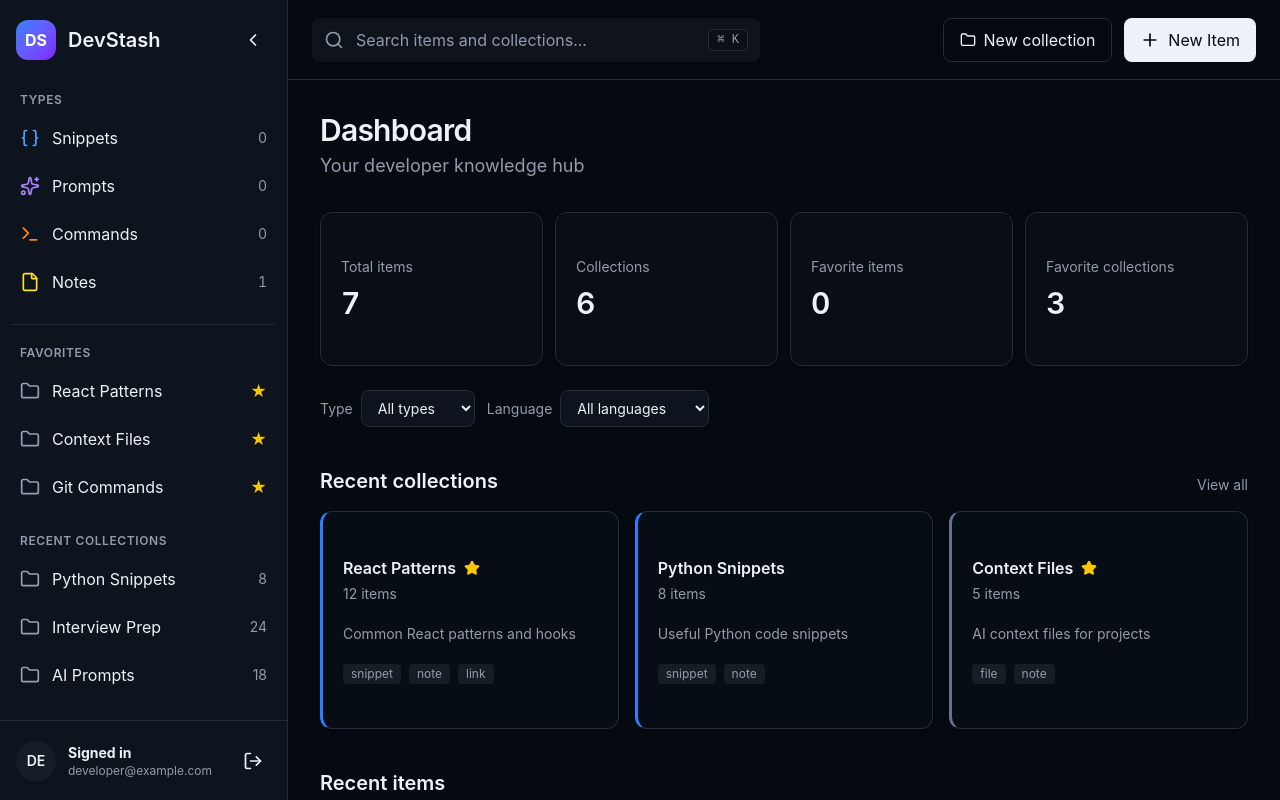
opens a prefetched item from global search even when it is not on the current page
Click the button with aria-label "Open global search" at (536, 40), box x1=312 y1=18 x2=760 y2=62
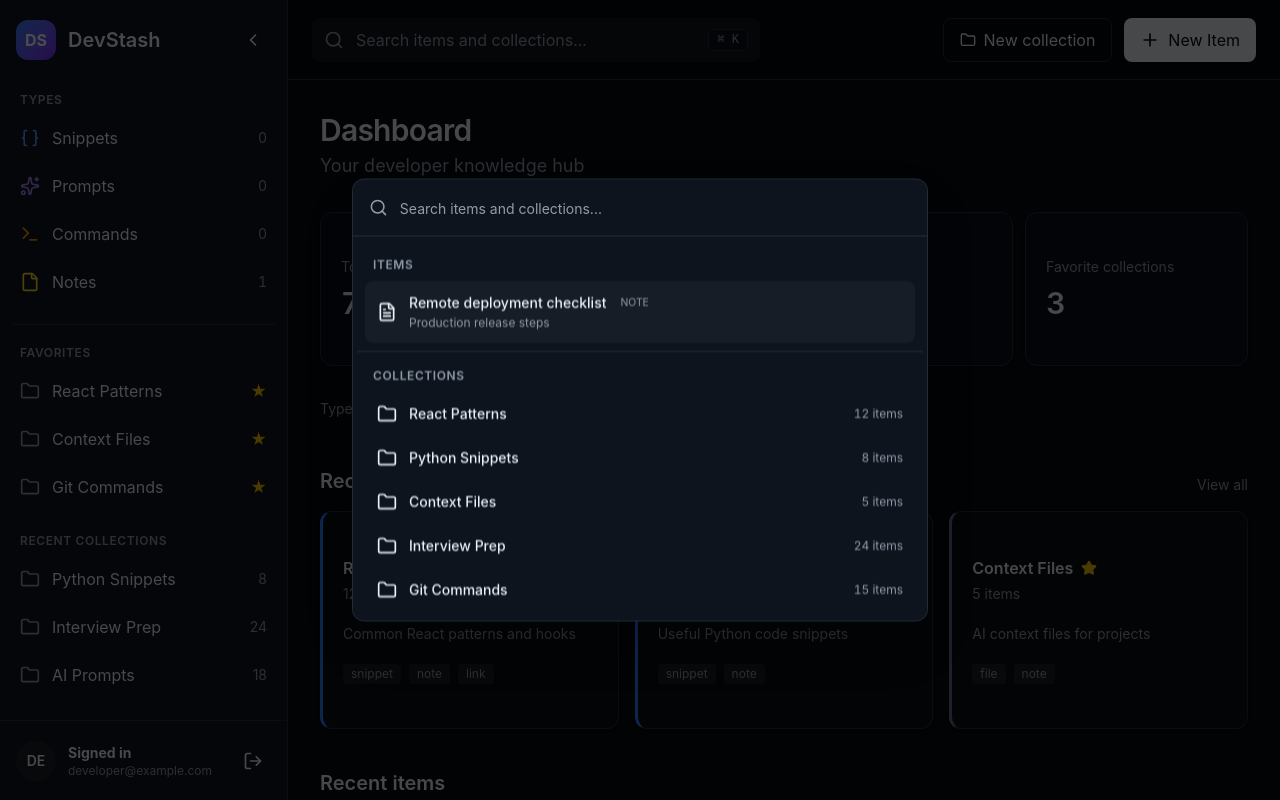
Type "Remote deployment" into the dropdown labelled "Search items and collections" at (655, 208), box x1=400 y1=180 x2=911 y2=236
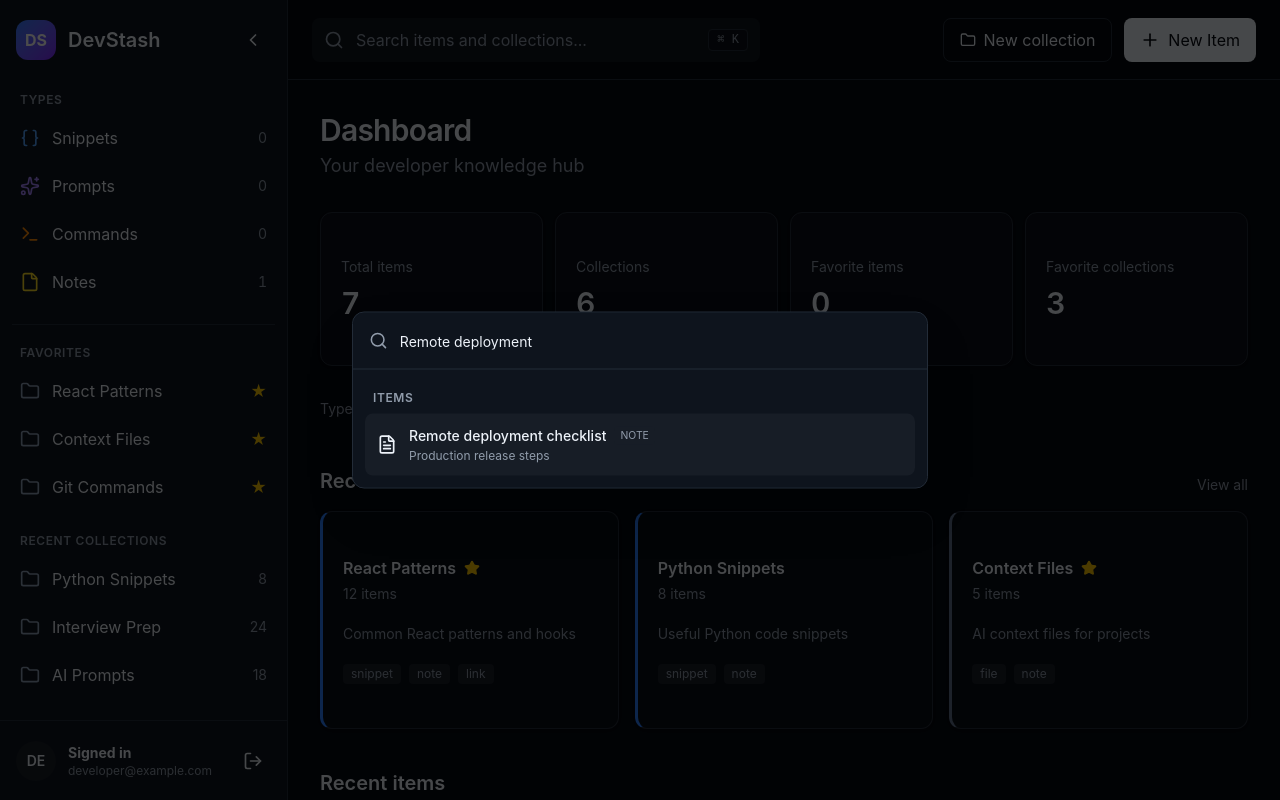
Click the text "Remote deployment checklist" at (508, 436), box x1=409 y1=426 x2=606 y2=446
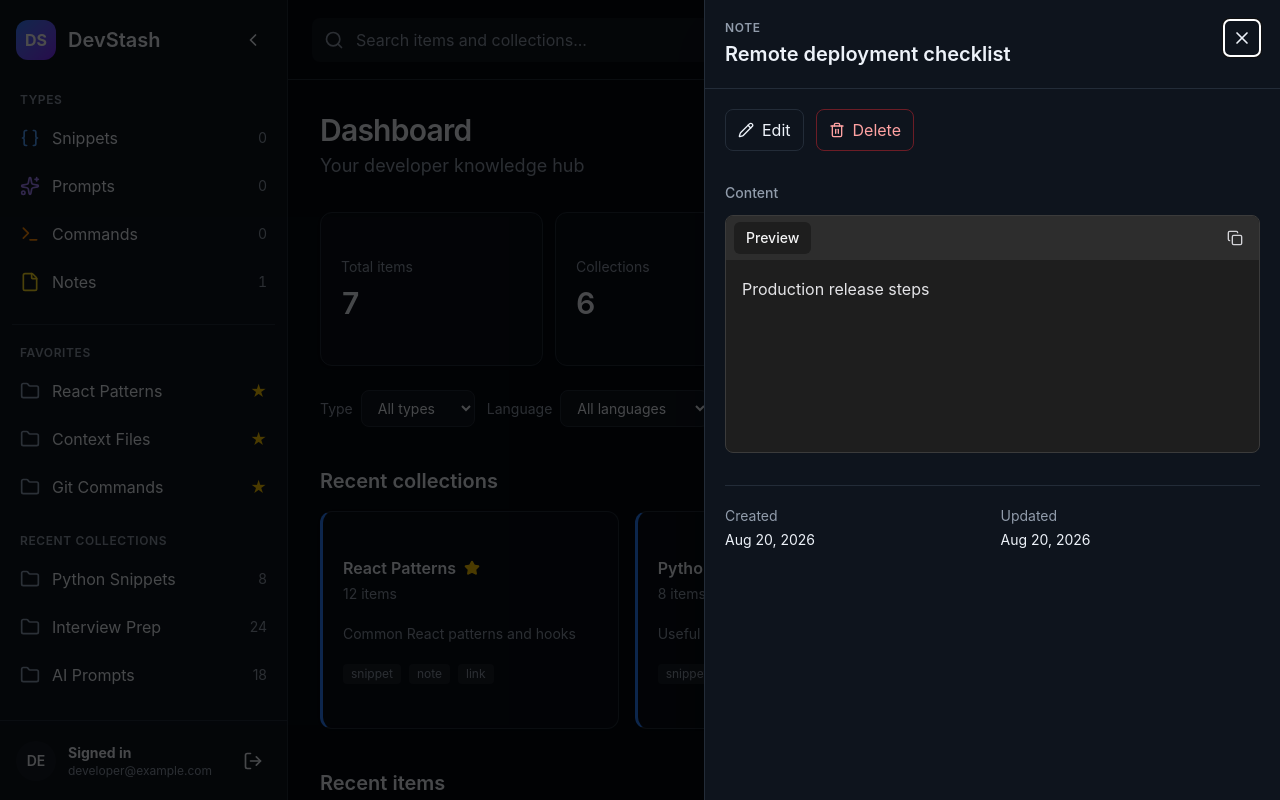
Expected: the dialog "Remote deployment checklist" is shown, x1=704 y1=0 x2=1279 y2=799
Click the button "Edit" at (764, 130), box x1=725 y1=109 x2=804 y2=151
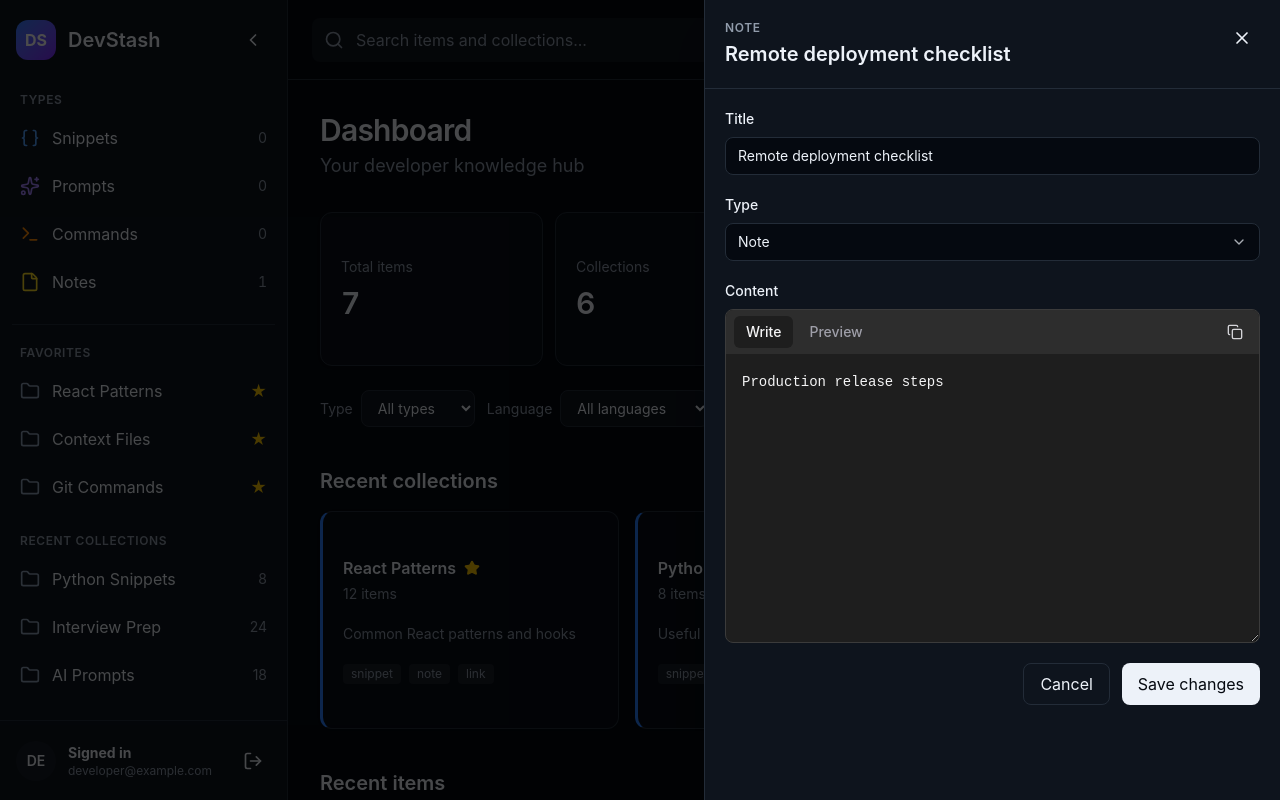
Replace the text in the field labelled "Title" with "Updated deployment checklist" at (992, 156), box x1=725 y1=137 x2=1260 y2=175
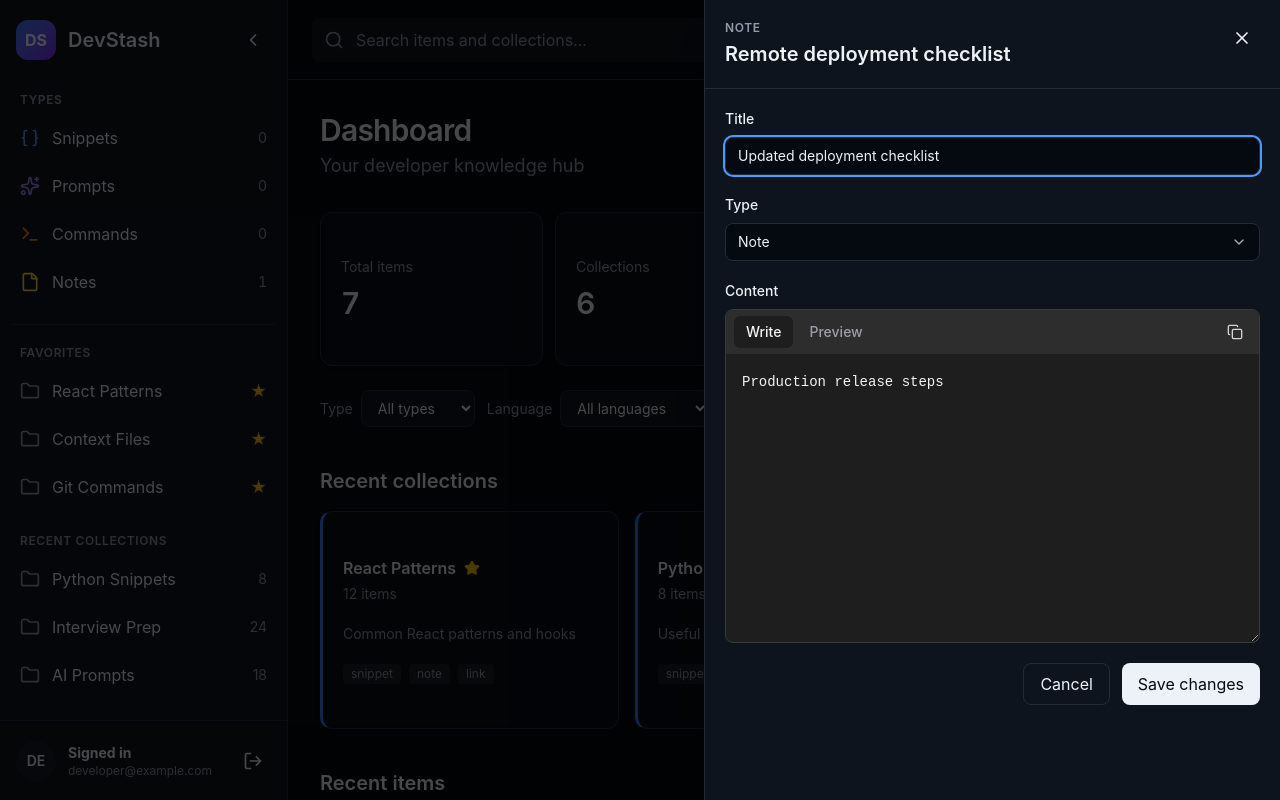
Click the button "Save changes" at (1191, 684), box x1=1122 y1=663 x2=1260 y2=705
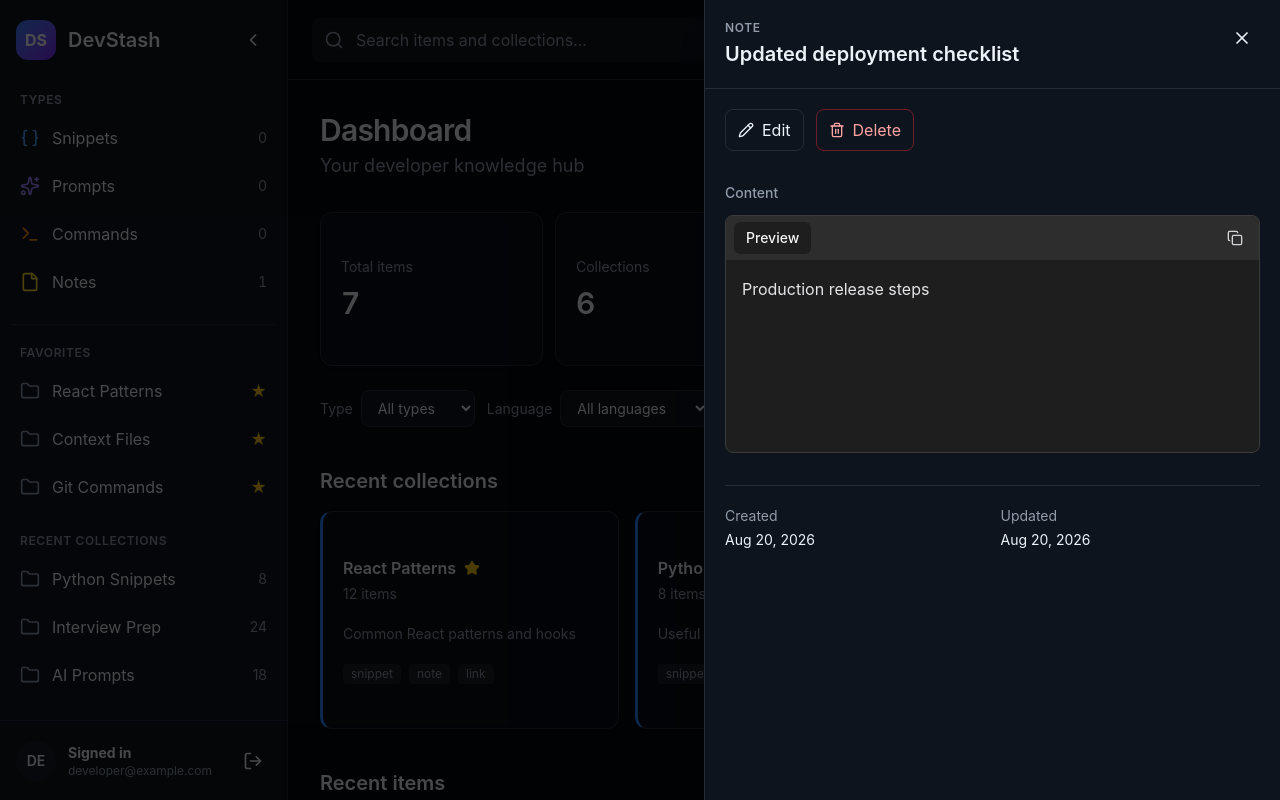
Expected: the dialog "Updated deployment checklist" is shown, x1=704 y1=0 x2=1279 y2=799
